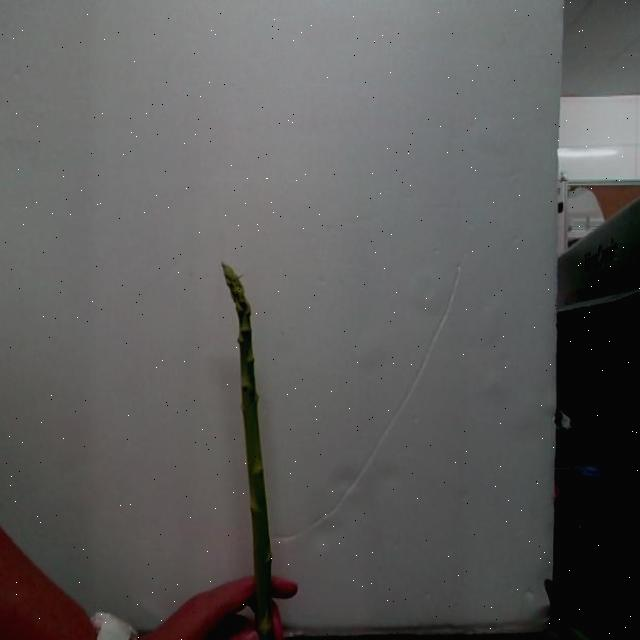aspargus: (221, 266, 273, 640)
